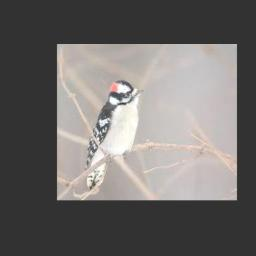Woodpecker: (85, 80, 143, 191)
